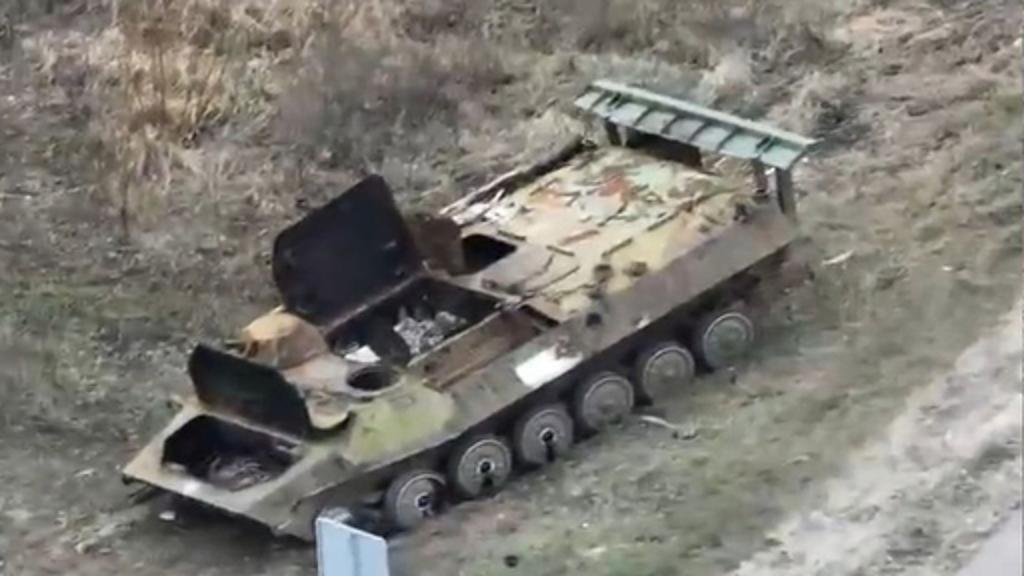APC-IFV: (98, 58, 824, 556)
